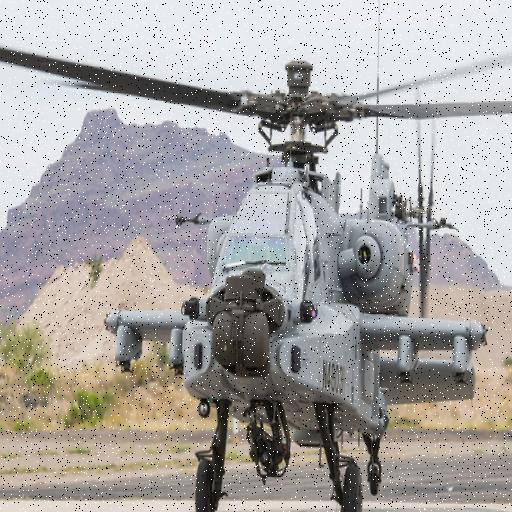helicopter: (1, 28, 512, 512)
